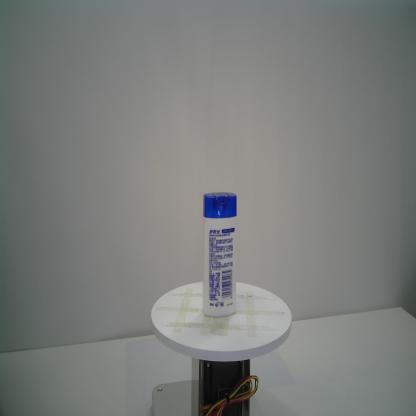Personal Hygiene: (202, 191, 237, 318)
